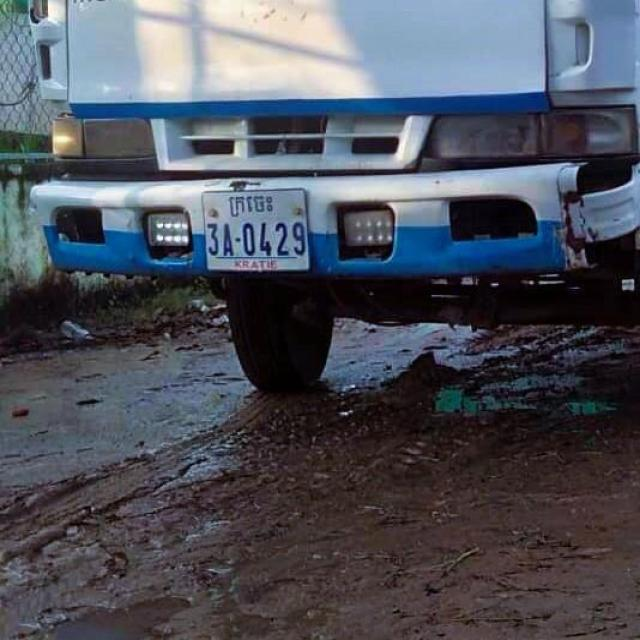Kratie: (225, 194, 273, 220)
